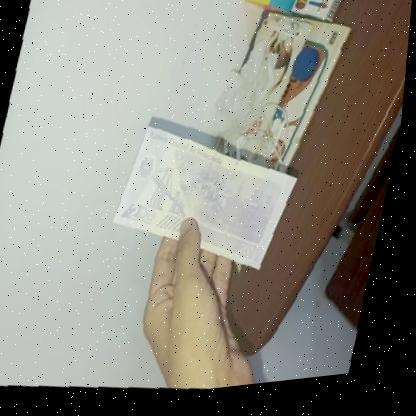two_hundred-back-vef: (103, 112, 314, 294)
